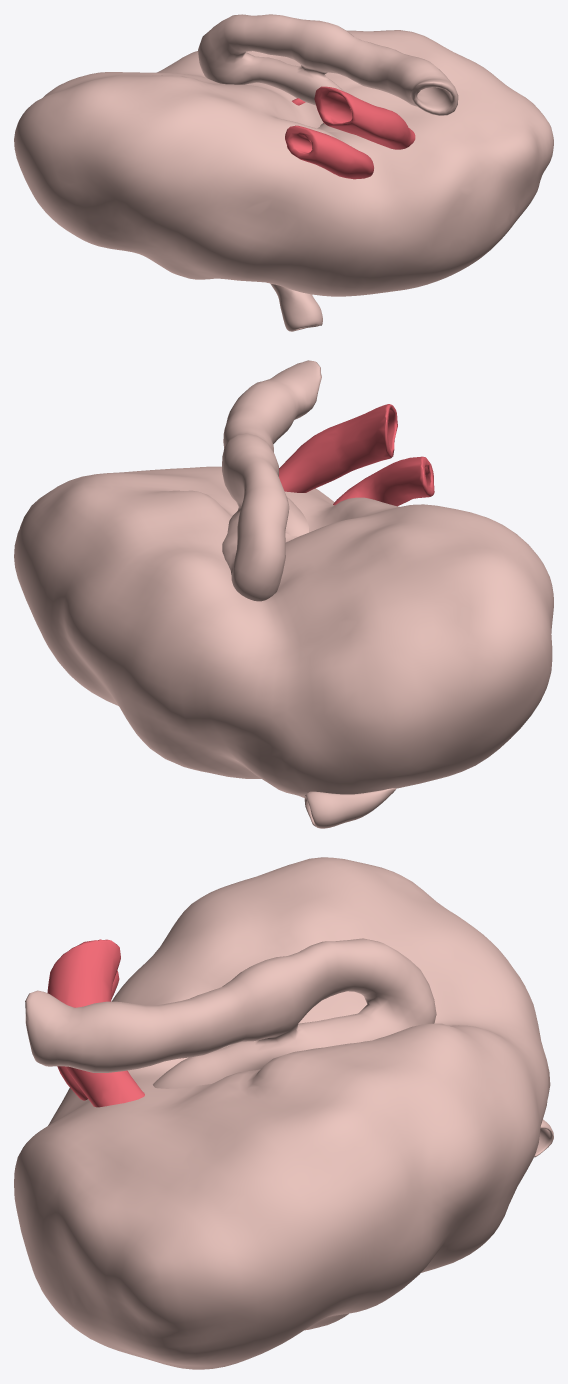
File: lymph-node.glb
The picture shows the model from 3 angles, top to bottom: view 1: azimuth 30°, elevation 25°; view 2: azimuth 150°, elevation 25°; view 3: azimuth 270°, elevation 25°; orthographic projection. The views are drawn at different scales.
Visible parts, largest first — view 1: Yao_capsule_of_lymph_node, Yao_efferent_lymph_node, Yao_blood_vasculature, Yao_afferent_lymphatic_vessel; view 2: Yao_capsule_of_lymph_node, Yao_efferent_lymph_node, Yao_blood_vasculature, Yao_afferent_lymphatic_vessel; view 3: Yao_capsule_of_lymph_node, Yao_efferent_lymph_node, Yao_blood_vasculature.
Boxes of the visible parts, <box> form: Yao_capsule_of_lymph_node: <box>14,30,553,296</box>; Yao_efferent_lymph_node: <box>198,14,458,132</box>; Yao_blood_vasculature: <box>285,86,415,179</box>; Yao_afferent_lymphatic_vessel: <box>270,283,322,331</box>; Yao_capsule_of_lymph_node: <box>14,466,553,797</box>; Yao_efferent_lymph_node: <box>222,360,321,601</box>; Yao_blood_vasculature: <box>279,404,434,506</box>; Yao_afferent_lymphatic_vessel: <box>304,788,396,828</box>; Yao_capsule_of_lymph_node: <box>14,857,550,1369</box>; Yao_efferent_lymph_node: <box>25,938,436,1088</box>; Yao_blood_vasculature: <box>47,939,144,1107</box>.
Size of the model in its own units: 0.0183 by 0.0107 by 0.013.
Materials: 1 (1 with a texture image).
